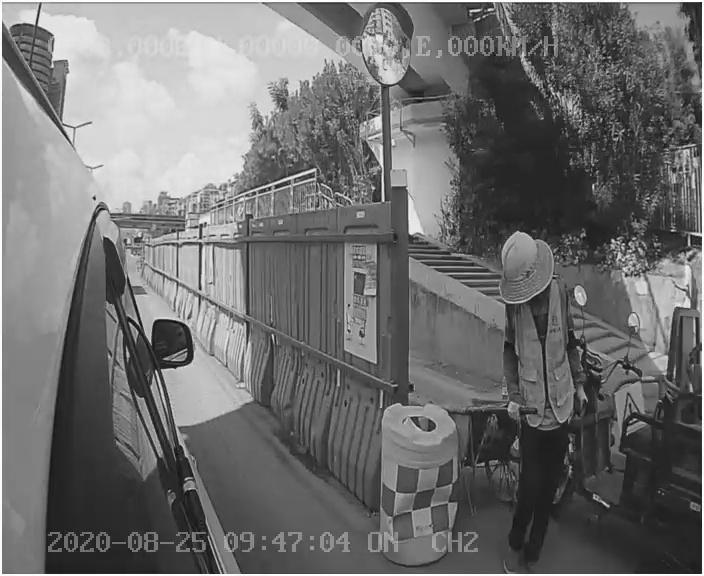person: (475, 234, 593, 565)
